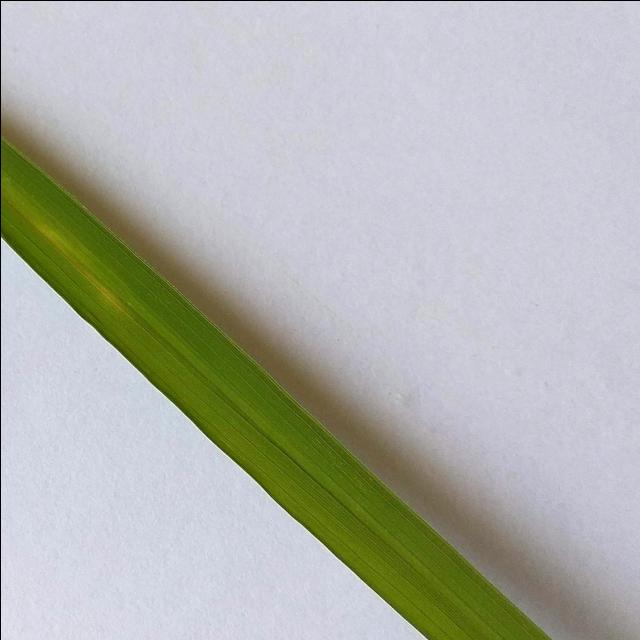healthy: (0, 139, 553, 640)
